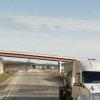Bridge: (5, 40, 76, 74)
